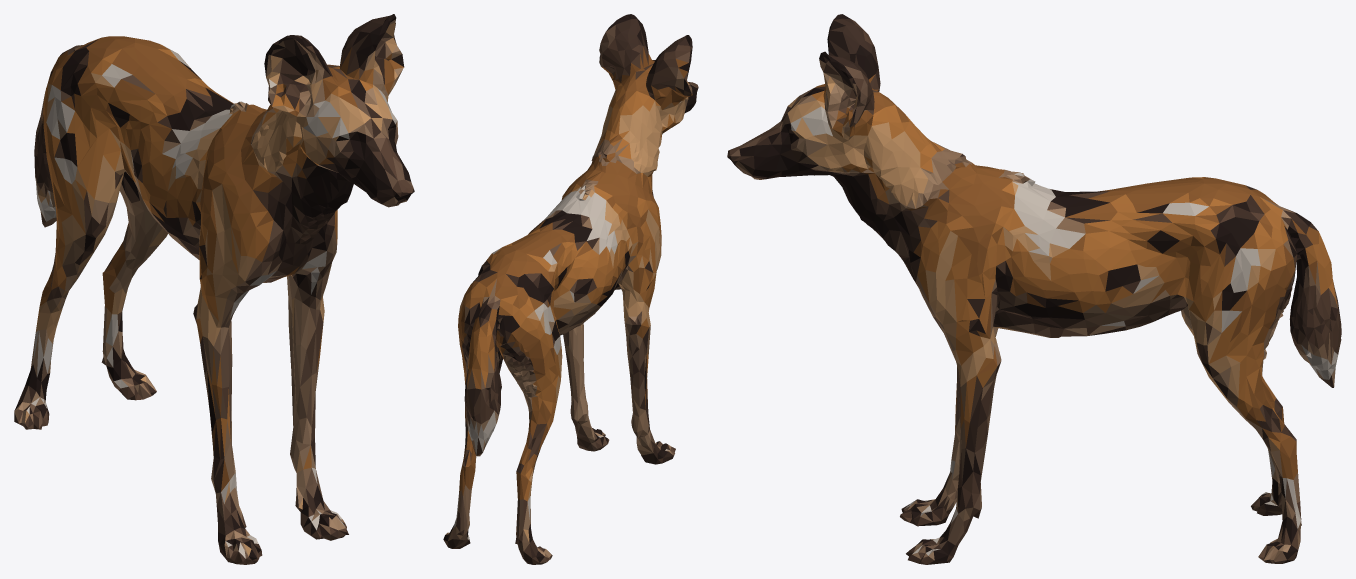
Rendered from lycaon_pictus.glb.
3 views of the same model, side by side, from view 1: azimuth 30°, elevation 25°; view 2: azimuth 150°, elevation 25°; view 3: azimuth 270°, elevation 25° (orthographic). The views are drawn at different scales.
Parts seen in each view (by area): view 1: lod0; view 2: lod0; view 3: lod0.
Part boxes in pixels (box(x1,y1,x2,y2)): lod0: box(14, 14, 414, 564); lod0: box(443, 14, 698, 564); lod0: box(727, 14, 1341, 564).
Size of what is drawn, in the model's own units: 0.2443 by 0.8249 by 0.9014.
